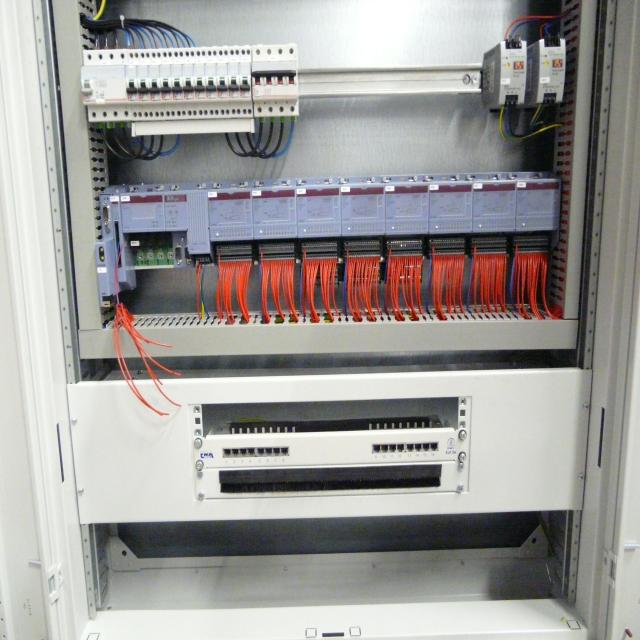FI: (81, 62, 129, 103)
Leitungsschutzschalter: (253, 46, 298, 115), (205, 49, 218, 110), (172, 49, 184, 110), (160, 50, 172, 110), (128, 50, 139, 111), (195, 49, 206, 110), (218, 48, 229, 109), (184, 49, 195, 109), (240, 48, 251, 108), (149, 51, 160, 110), (139, 51, 149, 112), (229, 48, 239, 107)
SPS-System -Steuerungskomponente-: (208, 182, 253, 258), (119, 194, 209, 231), (254, 182, 297, 257), (298, 181, 342, 253), (428, 177, 473, 242), (515, 175, 560, 240), (473, 175, 515, 243), (385, 179, 428, 244), (342, 180, 384, 244)
Schaltkasten: (0, 4, 639, 580), (382, 110, 387, 112)
